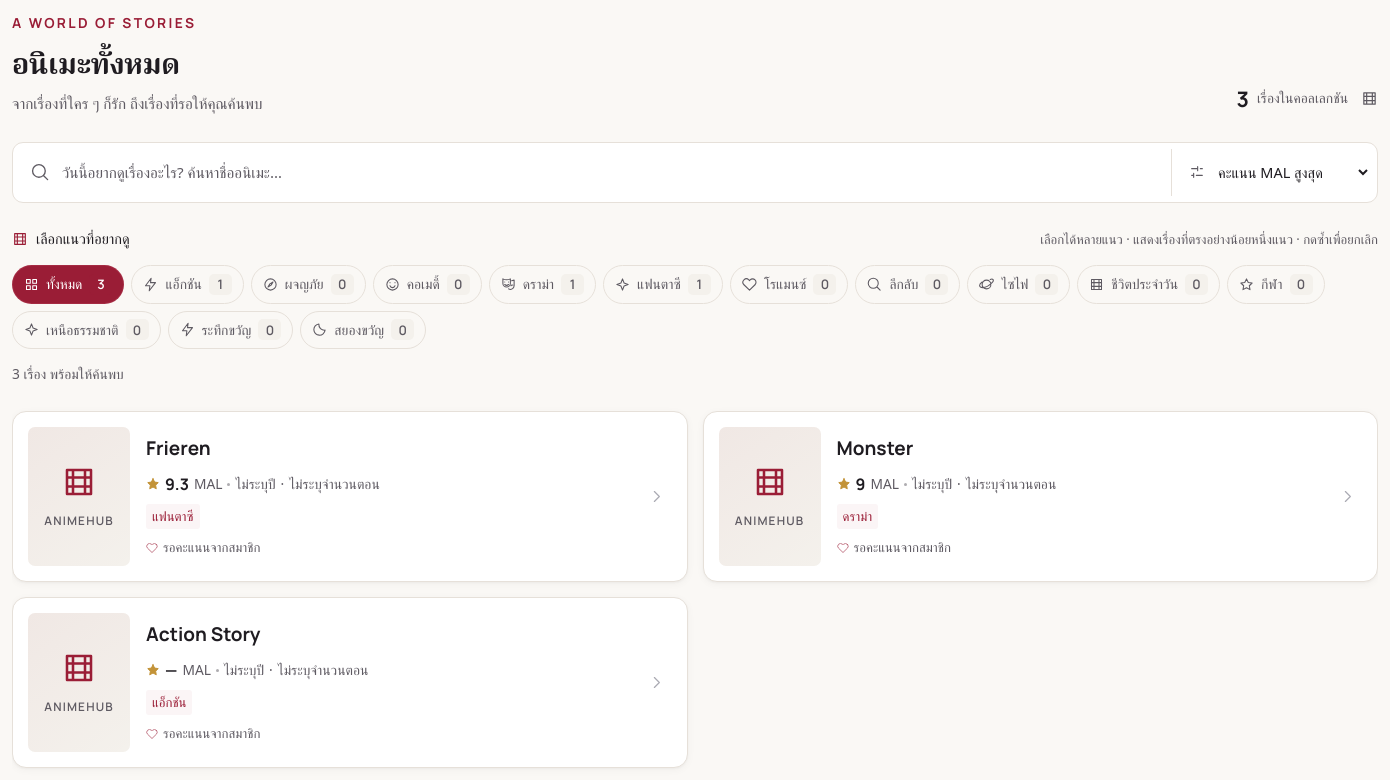
multi-genre selection works with search and sorting, and All clears only genres
Expected: the heading "Frieren" is shown, [146,435,211,461]
Click the button "แฟนตาซี 1". click: coordinates (663, 284)
box: [603,265,723,304]
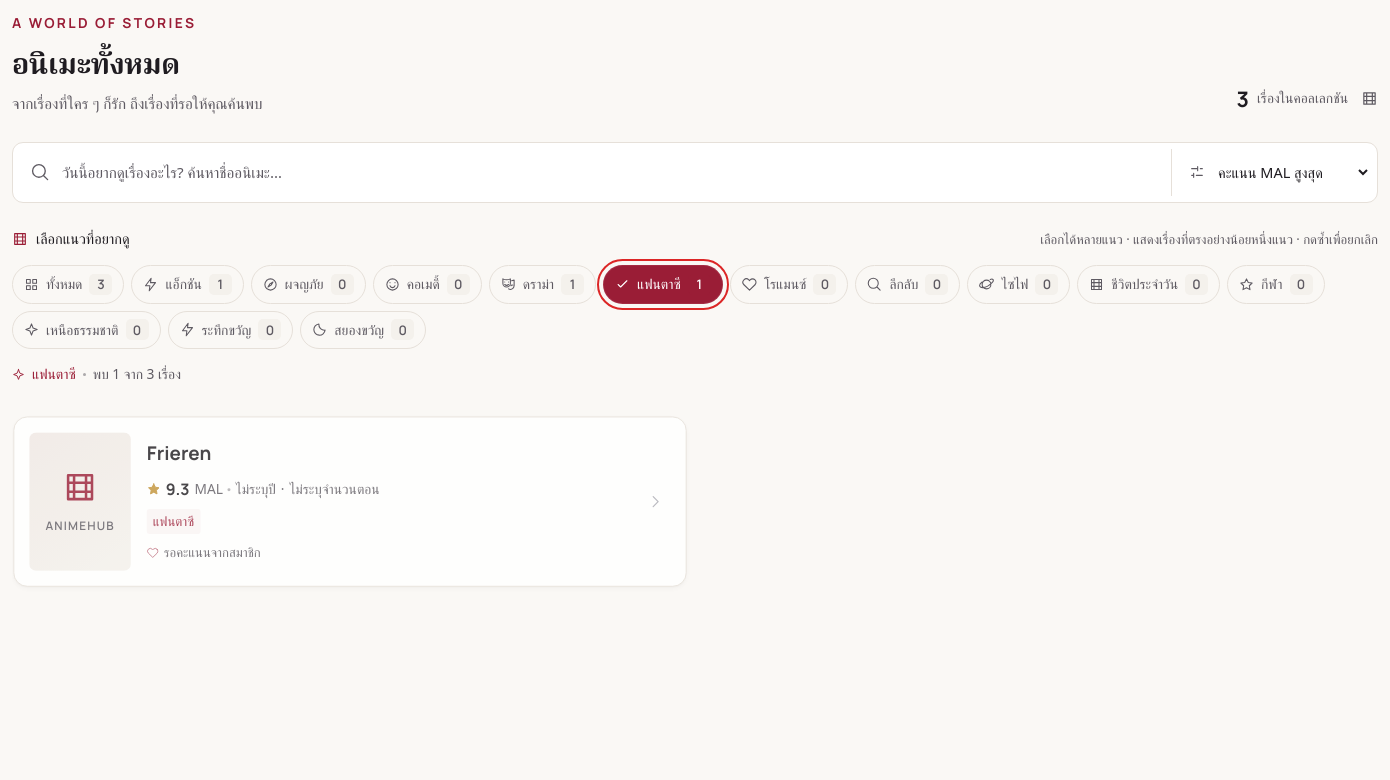
Click the button "ดราม่า 1". click: coordinates (542, 284)
box: [489,265,596,304]
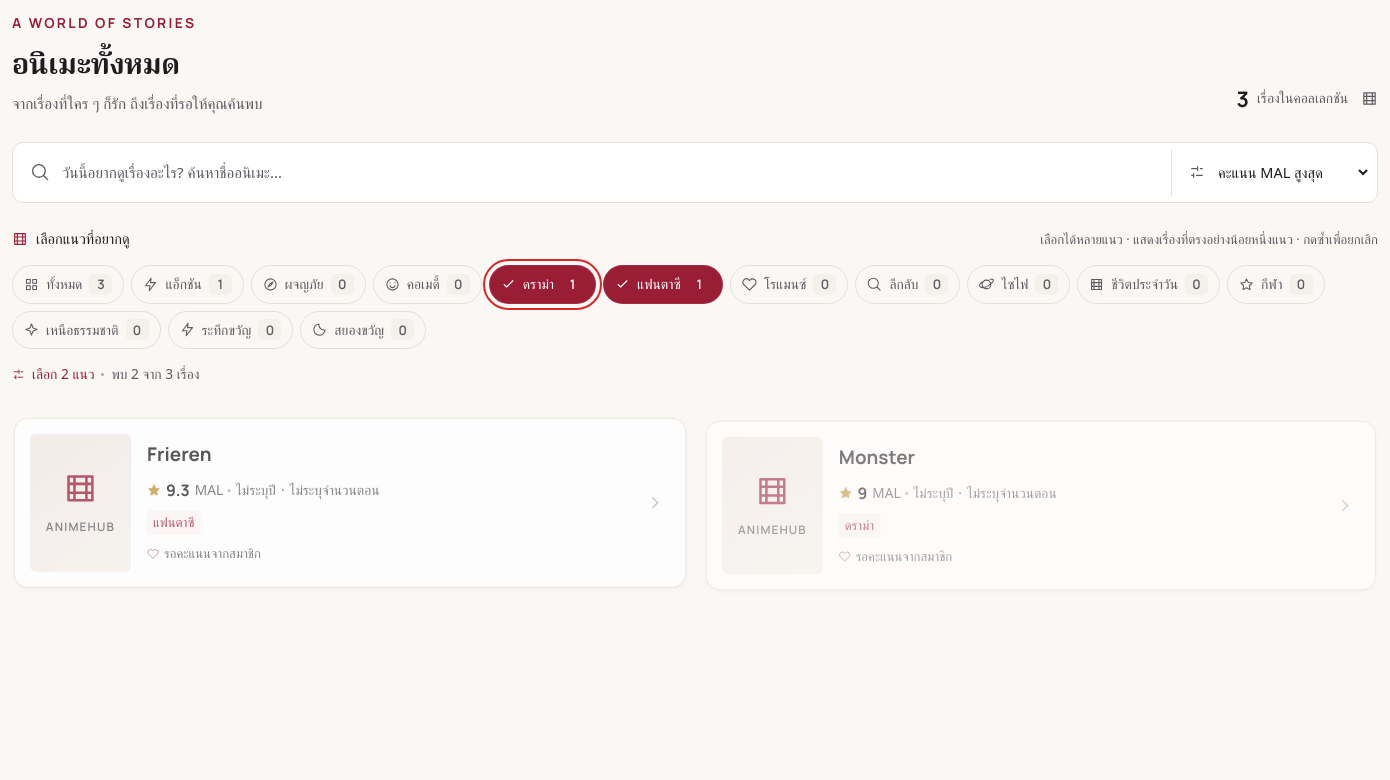
Select "ชื่อ A–Z" in the dropdown named "เรียงลำดับ". click: coordinates (1292, 172)
box: [1214,151,1371,194]
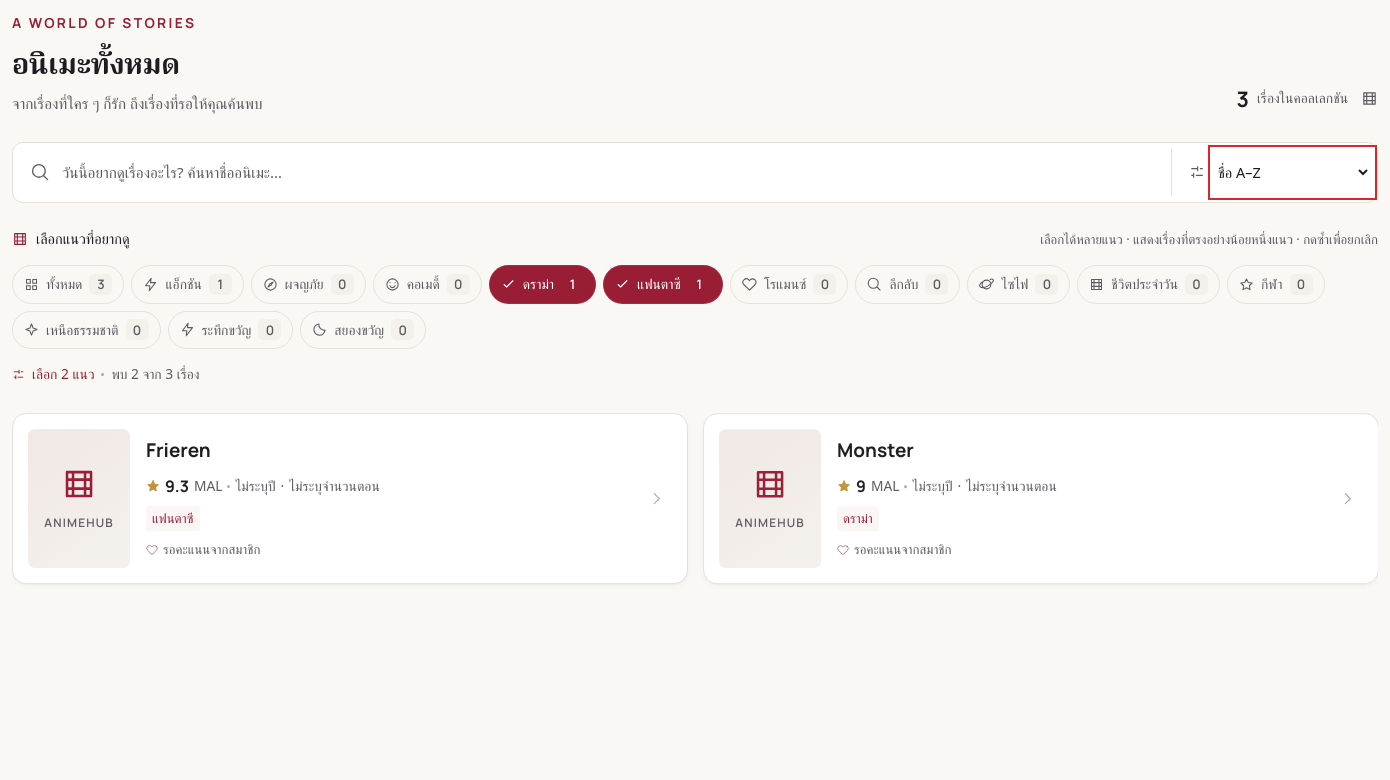
Expected: the headings read "Frieren", "Monster", in this order, [146,437,211,463]; [836,437,913,463]
Type "Monster" into the field named "ค้นหาอนิเมะ". click: coordinates (612, 172)
box: [62,149,1161,196]
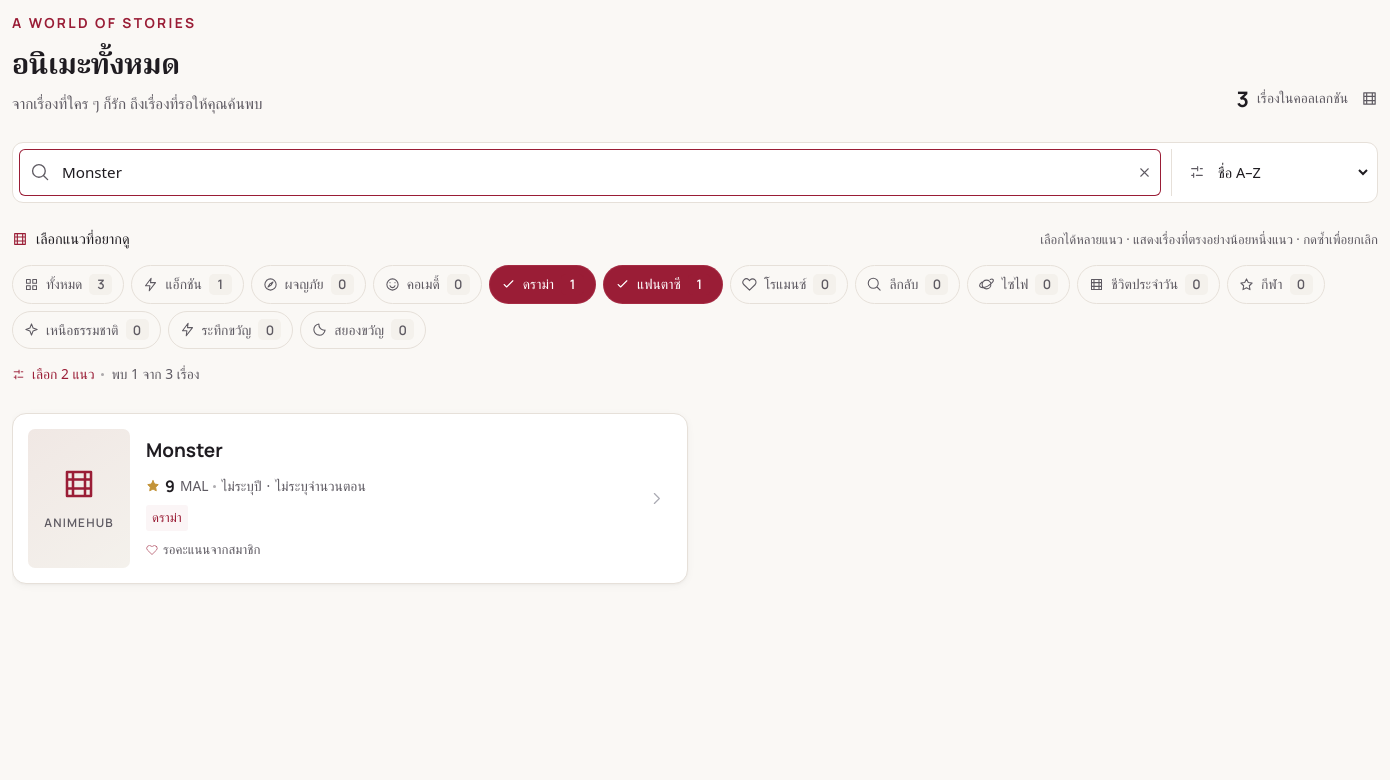
Expected: the heading "Monster" is shown, [146,437,223,463]
Expected: the link "Frieren" is gone
Click the button "ทั้งหมด 3". click: coordinates (68, 284)
box: [12,265,124,304]
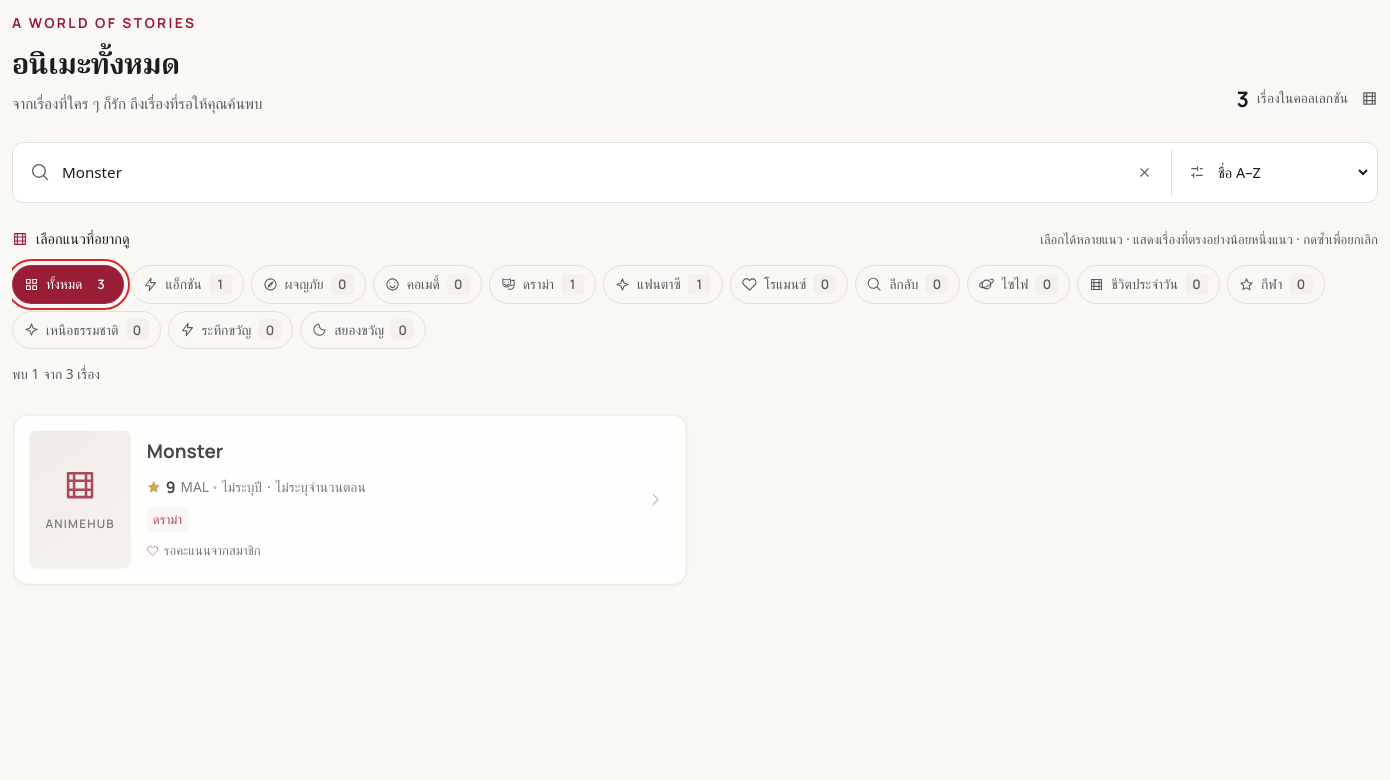
Expected: the button "แฟนตาซี 1" is not pressed, [603,265,723,304]
Expected: the button "ดราม่า 1" is not pressed, [489,265,596,304]
Click the button named "ล้างคำค้นหา". click: coordinates (1144, 172)
box: [1127,154,1161,190]
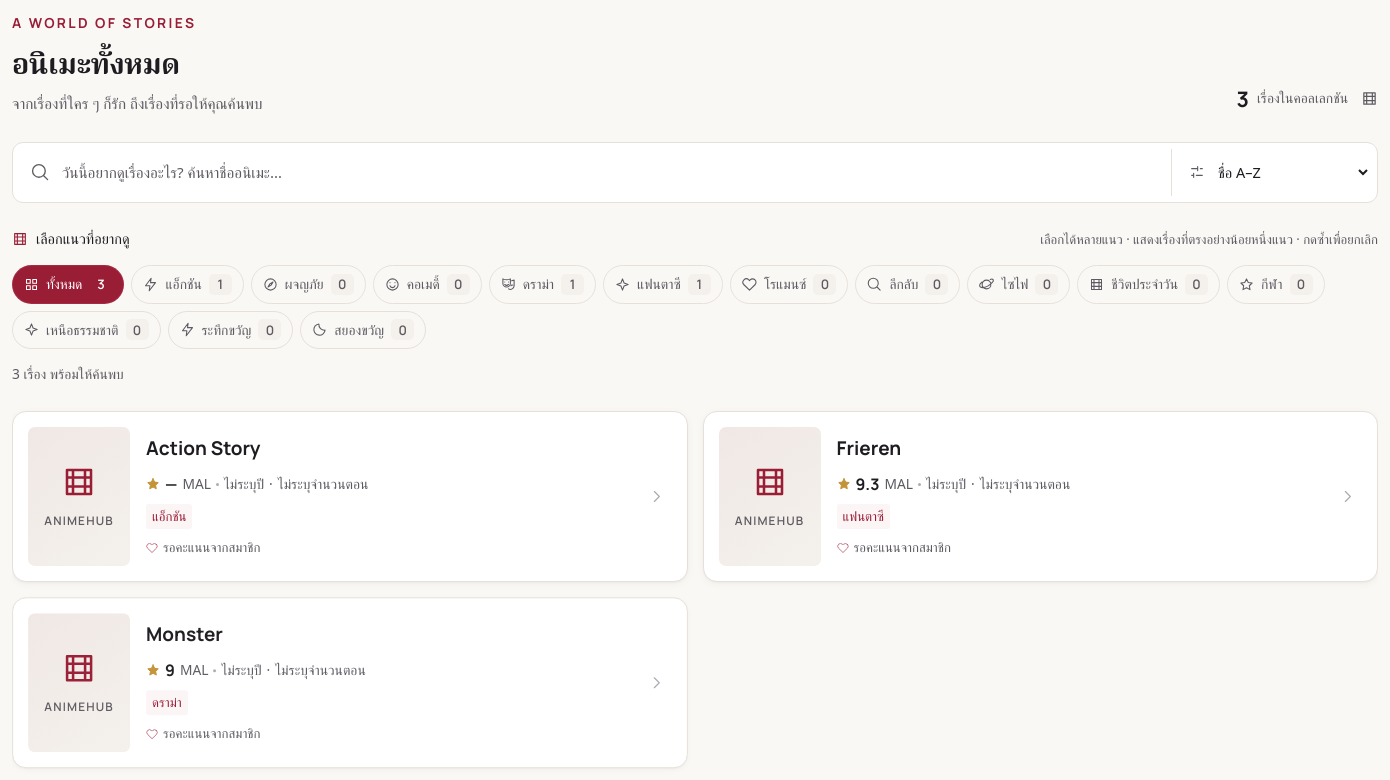
Expected: the heading "Action Story" is shown, [146,435,260,461]
